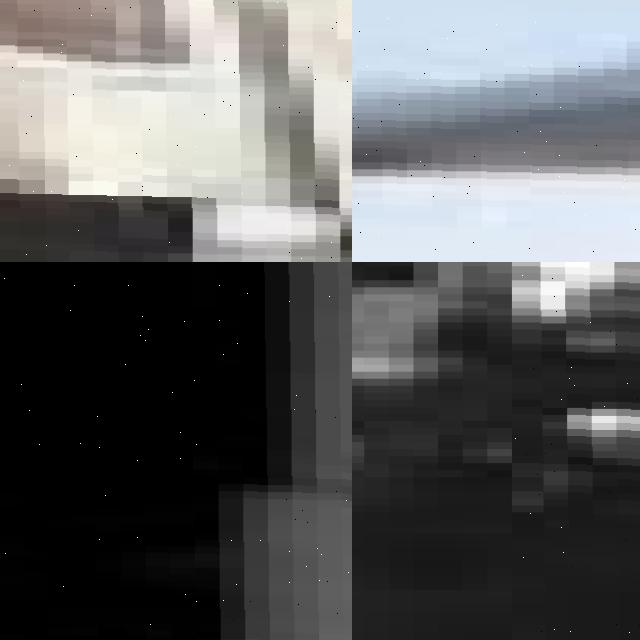street light: (0, 262, 352, 640), (352, 262, 640, 640), (0, 0, 352, 262), (352, 0, 640, 262), (512, 262, 640, 640)
